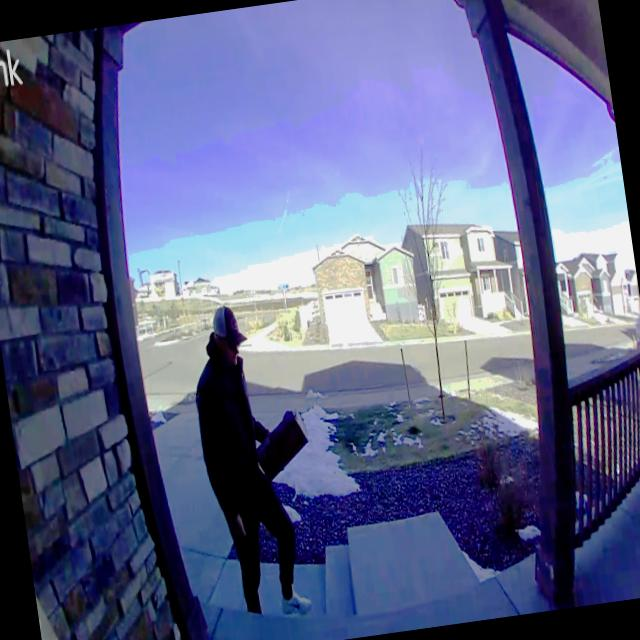Box: (253, 406, 314, 480)
